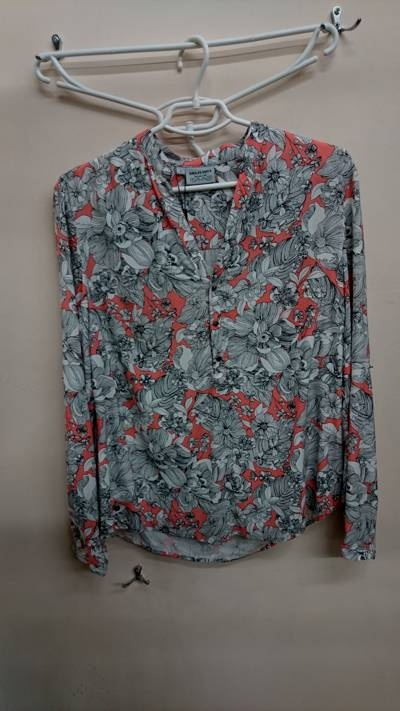Blouse: (53, 49, 385, 605)
